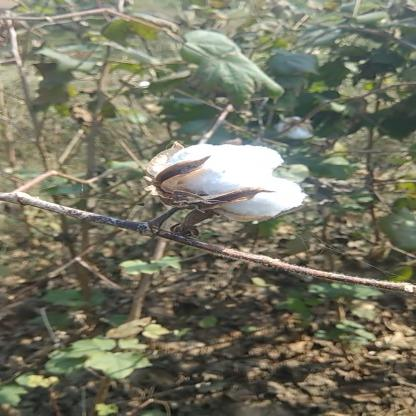cotton_ready: (124, 131, 318, 270)
